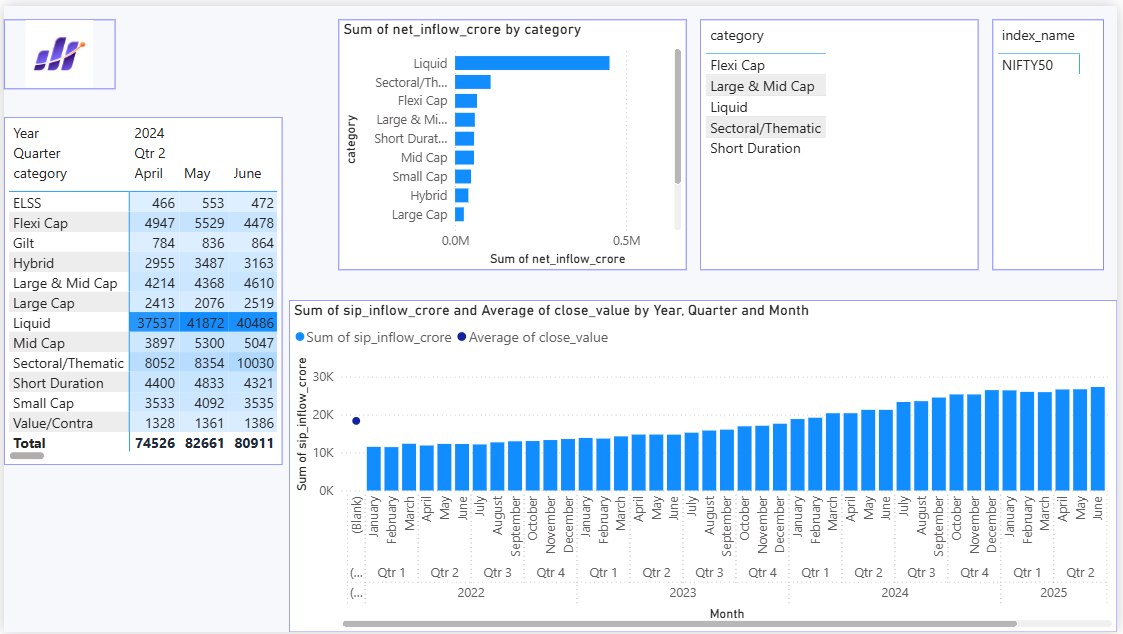

Layout of this report page (visuals, bound fields, positions):
{"tool":"powerbi","page":{"name":"SIP & Market Trends","canvas":[1280,720],"ordinal":3},"visuals":[{"type":"lineClusteredColumnComboChart","fields":{"Category":["04_monthly_sip_inflows_clean.month.Variation.Date Hierarchy.Year","04_monthly_sip_inflows_clean.month.Variation.Date Hierarchy.Quarter","04_monthly_sip_inflows_clean.month.Variation.Date Hierarchy.Month","04_monthly_sip_inflows_clean.month.Variation.Date Hierarchy.Day"],"Y":["Sum(04_monthly_sip_inflows_clean.sip_inflow_crore)"],"Y2":["Avg(10_benchmark_indices_clean.close_value)"]},"box":[328,338,952,382],"z":0},{"type":"pivotTable","fields":{"Rows":["10_benchmark_indices_clean.index_name"]},"box":[1136,16,128,288],"z":1000},{"type":"pivotTable","fields":{"Rows":["05_category_inflows_clean.category"],"Columns":["05_category_inflows_clean.month.Variation.Date Hierarchy.Year","05_category_inflows_clean.month.Variation.Date Hierarchy.Quarter","05_category_inflows_clean.month.Variation.Date Hierarchy.Month","05_category_inflows_clean.month.Variation.Date Hierarchy.Day"],"Values":["Sum(05_category_inflows_clean.net_inflow_crore)"]},"box":[0,128,320,400],"z":2000},{"type":"clusteredBarChart","fields":{"Category":["05_category_inflows_clean.category"],"Y":["Sum(05_category_inflows_clean.net_inflow_crore)"]},"box":[384,16,400,288],"z":3000},{"type":"tableEx","fields":{"Values":["05_category_inflows_clean.category"]},"box":[800,16,320,288],"z":4000},{"type":"image","box":[0,16,128,80],"z":5000}]}

Visuals, with their boxes in screenshot pixels (x1, y1, x2, y2), scaled from the page's 1280x720 canvas onto the 1123x634 screenshot:
lineClusteredColumnComboChart - 04_monthly_sip_inflows_clean.month.Variation.Date Hierarchy.Year x 04_monthly_sip_inflows_clean.month.Variation.Date Hierarchy.Quarter: [288,298,1122,633]
pivotTable - 10_benchmark_indices_clean.index_name: [997,14,1109,268]
pivotTable - 05_category_inflows_clean.category x 05_category_inflows_clean.month.Variation.Date Hierarchy.Year: [0,113,281,465]
clusteredBarChart - 05_category_inflows_clean.category x Sum(05_category_inflows_clean.net_inflow_crore): [337,14,688,268]
tableEx - 05_category_inflows_clean.category: [702,14,983,268]
image: [0,14,112,85]
